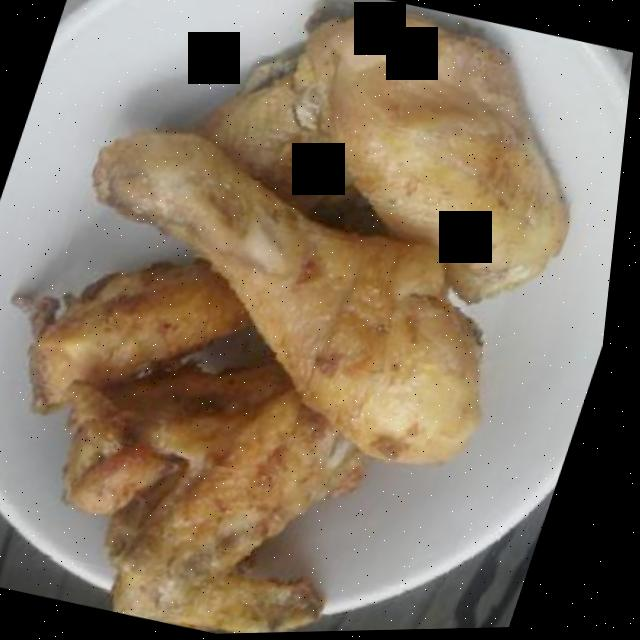Frango: (89, 0, 640, 328), (0, 357, 453, 639), (161, 218, 503, 446), (0, 244, 259, 485)
